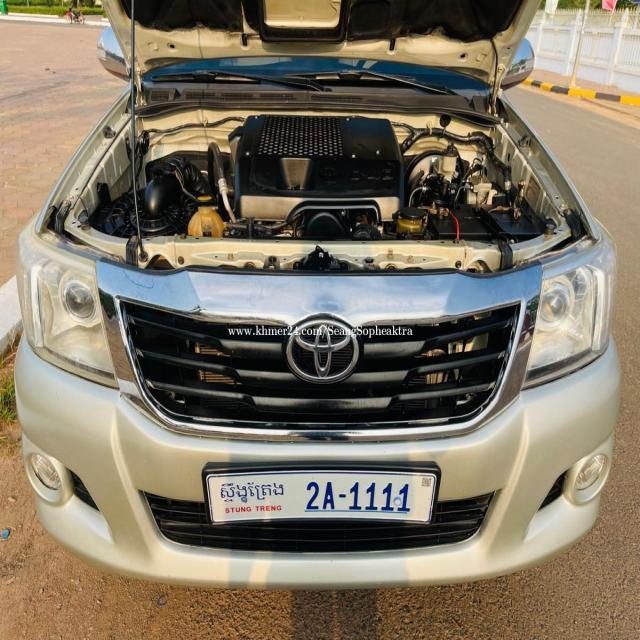Stung_Treng: (220, 479, 287, 506)
